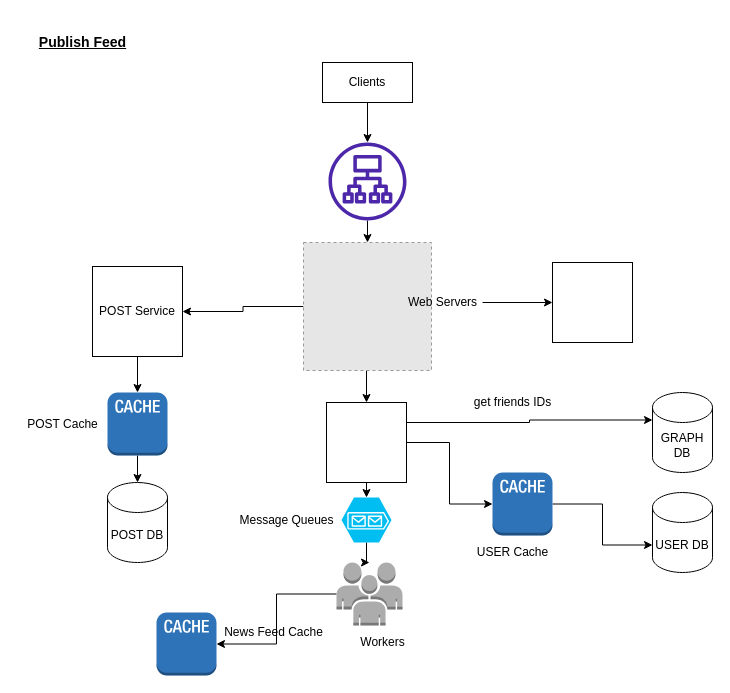
Some shapes in this 730 by 693 pixel diagram are drawn without their labels. Grey dashed boxes stand in for pictures. Here are the shapes that lost their labels. From the top down, the centre of each, then its label:
At [592,302]: "Notification Service".
At [366,442]: "FANOUT Service".
